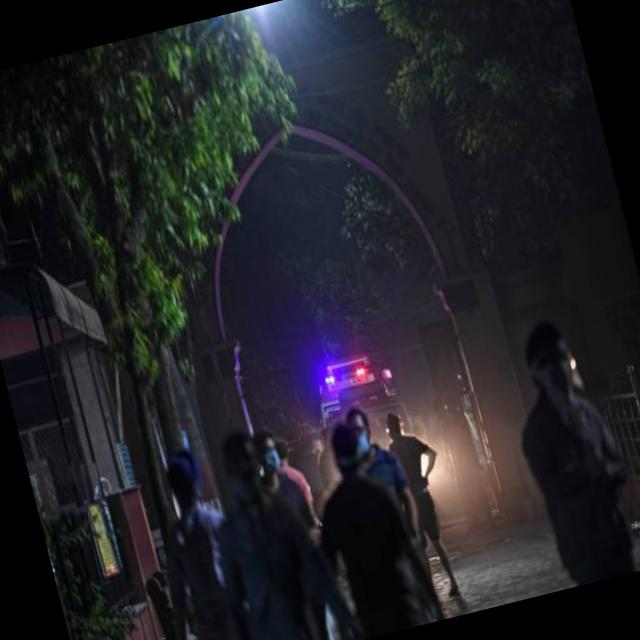ambulance: (307, 338, 398, 413)
